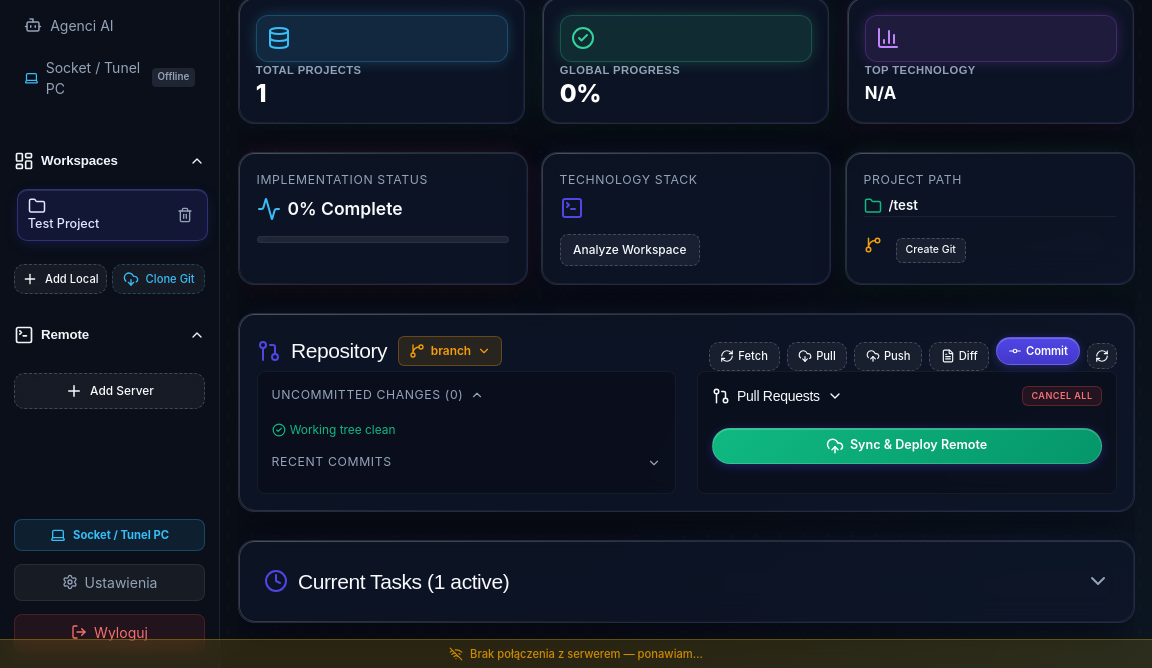
Test: App Component › renders Mark Completed button when workspace has active project and tasks header is open
(page scrolled)
Click the button "Current Tasks (1 active)".
click(365, 581)  # box top-left (263, 570), bottom-right (1109, 594)
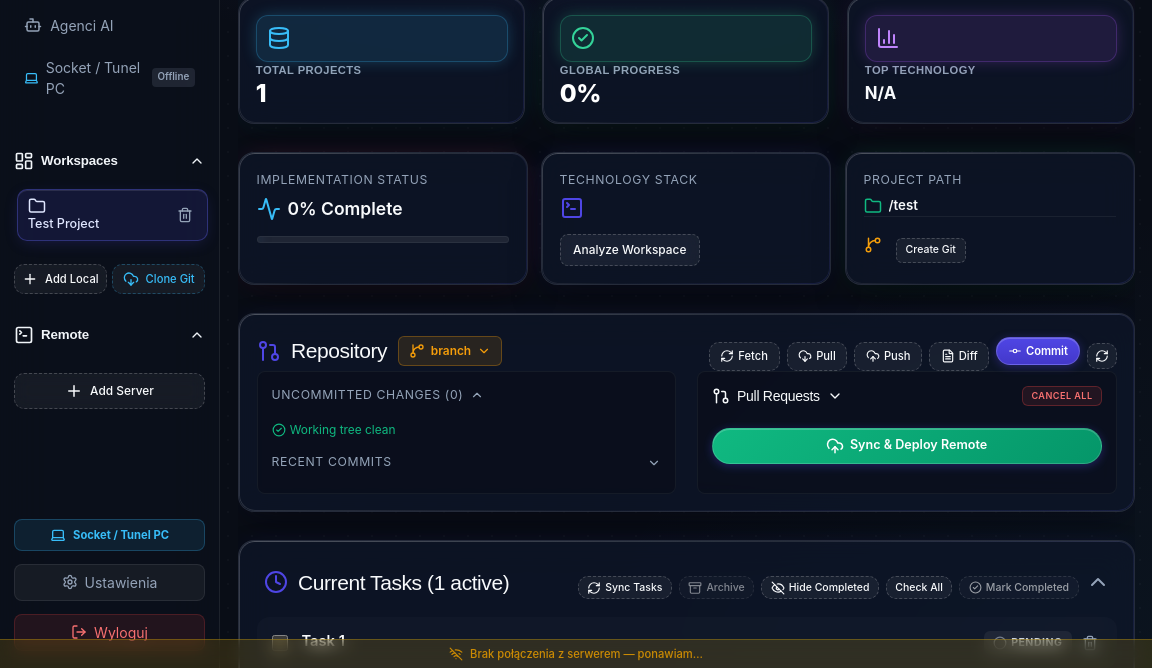
Expected: the button "Mark Completed" is shown, top-left (959, 576), bottom-right (1078, 600)
